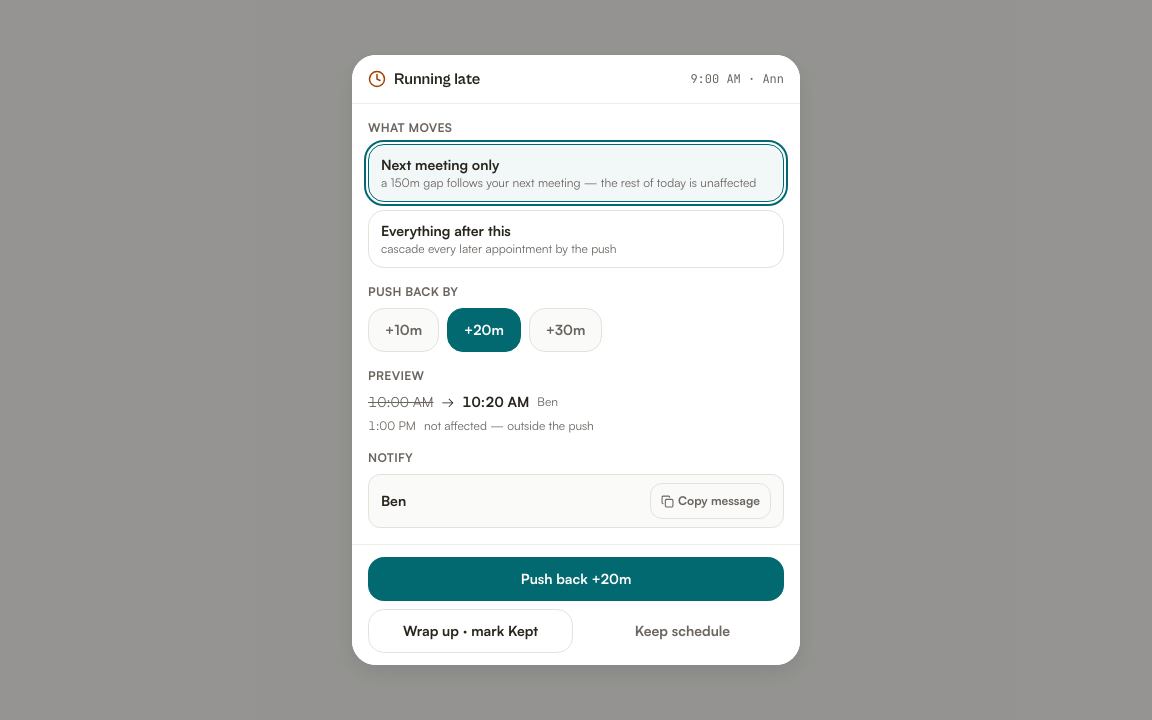
RunningLateSheet — E3 › changing the push updates the preview
Step 1. Click the button with test id "late-push-30" → coordinates (566, 330), box [529,308,602,352]
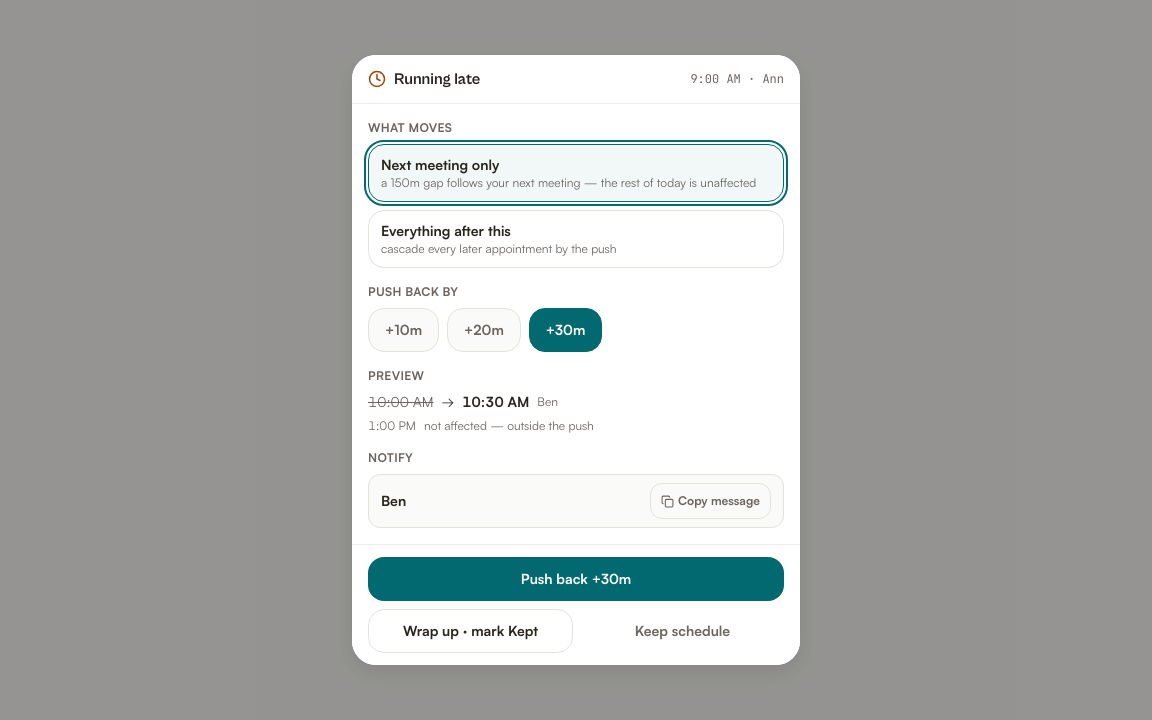
Now the list item with test id "late-affected-b" shows "10:30", box [462,393,529,410]
